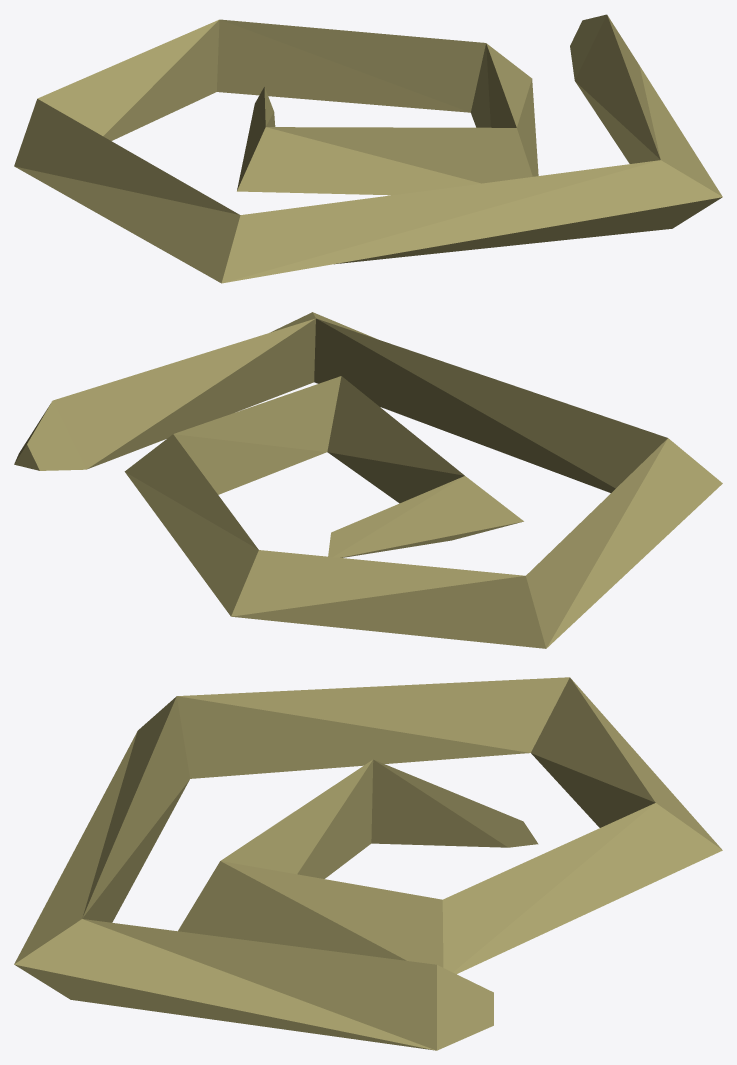
Rendered from coarse-string.glb.
3 renders of one model, top to bottom at view 1: azimuth 30°, elevation 25°; view 2: azimuth 150°, elevation 25°; view 3: azimuth 270°, elevation 25°, orthographic. The views are drawn at different scales.
Visible parts, largest first — view 1: Circle; view 2: Circle; view 3: Circle.
Part boxes in pixels (x1,y1,x2,y2): Circle: (14,14,722,283); Circle: (14,312,722,648); Circle: (14,677,722,1050).
Size of the model in its own units: 0.2035 by 0.026 by 0.1909.
